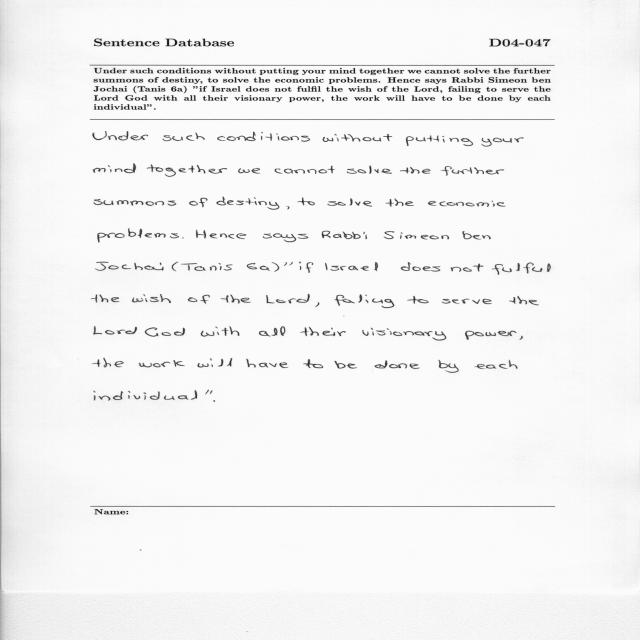word: (98, 229, 179, 243), (94, 390, 197, 401), (363, 328, 447, 341), (147, 164, 227, 177), (217, 132, 310, 142), (335, 294, 395, 308), (217, 197, 280, 210), (491, 262, 551, 275), (406, 135, 473, 146), (441, 166, 504, 176), (96, 262, 164, 271), (384, 231, 449, 240), (94, 199, 176, 206), (323, 134, 392, 142), (428, 200, 506, 207), (93, 132, 148, 141), (275, 166, 335, 174), (325, 262, 378, 271), (465, 331, 516, 340), (196, 230, 246, 239), (201, 326, 239, 337), (181, 263, 233, 271), (300, 327, 346, 336), (347, 165, 392, 174), (263, 234, 308, 243), (375, 360, 420, 369), (401, 262, 441, 272), (266, 295, 310, 304), (481, 138, 524, 147), (93, 164, 136, 173), (94, 326, 137, 335), (475, 360, 518, 369), (163, 133, 205, 142), (246, 359, 288, 368), (328, 199, 373, 207), (322, 231, 367, 239), (145, 328, 185, 337), (132, 294, 171, 303), (198, 358, 233, 368), (139, 360, 185, 367), (93, 358, 124, 367), (438, 360, 459, 373), (221, 295, 251, 304), (509, 296, 539, 305), (462, 231, 491, 240), (259, 327, 285, 337), (451, 264, 483, 272), (386, 198, 414, 207), (442, 299, 492, 304), (92, 295, 120, 303), (400, 167, 430, 174), (188, 295, 210, 304), (303, 359, 323, 368), (247, 263, 269, 271), (407, 296, 429, 304), (335, 361, 357, 369), (189, 198, 208, 207), (299, 262, 313, 273), (297, 198, 315, 206), (238, 168, 260, 174), (272, 262, 279, 272), (210, 391, 215, 402), (172, 262, 178, 271), (284, 262, 293, 266), (315, 302, 319, 307), (519, 336, 523, 340), (205, 390, 209, 394), (287, 206, 289, 209), (182, 238, 184, 239)
